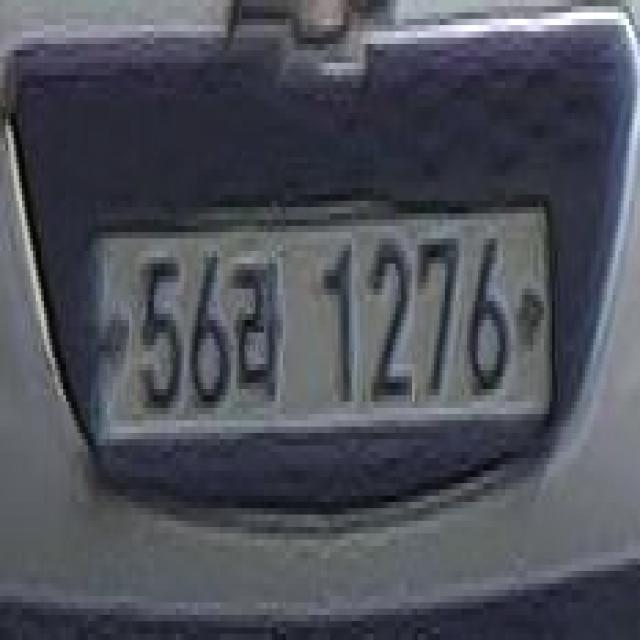illegal_plate: (80, 190, 559, 470)
